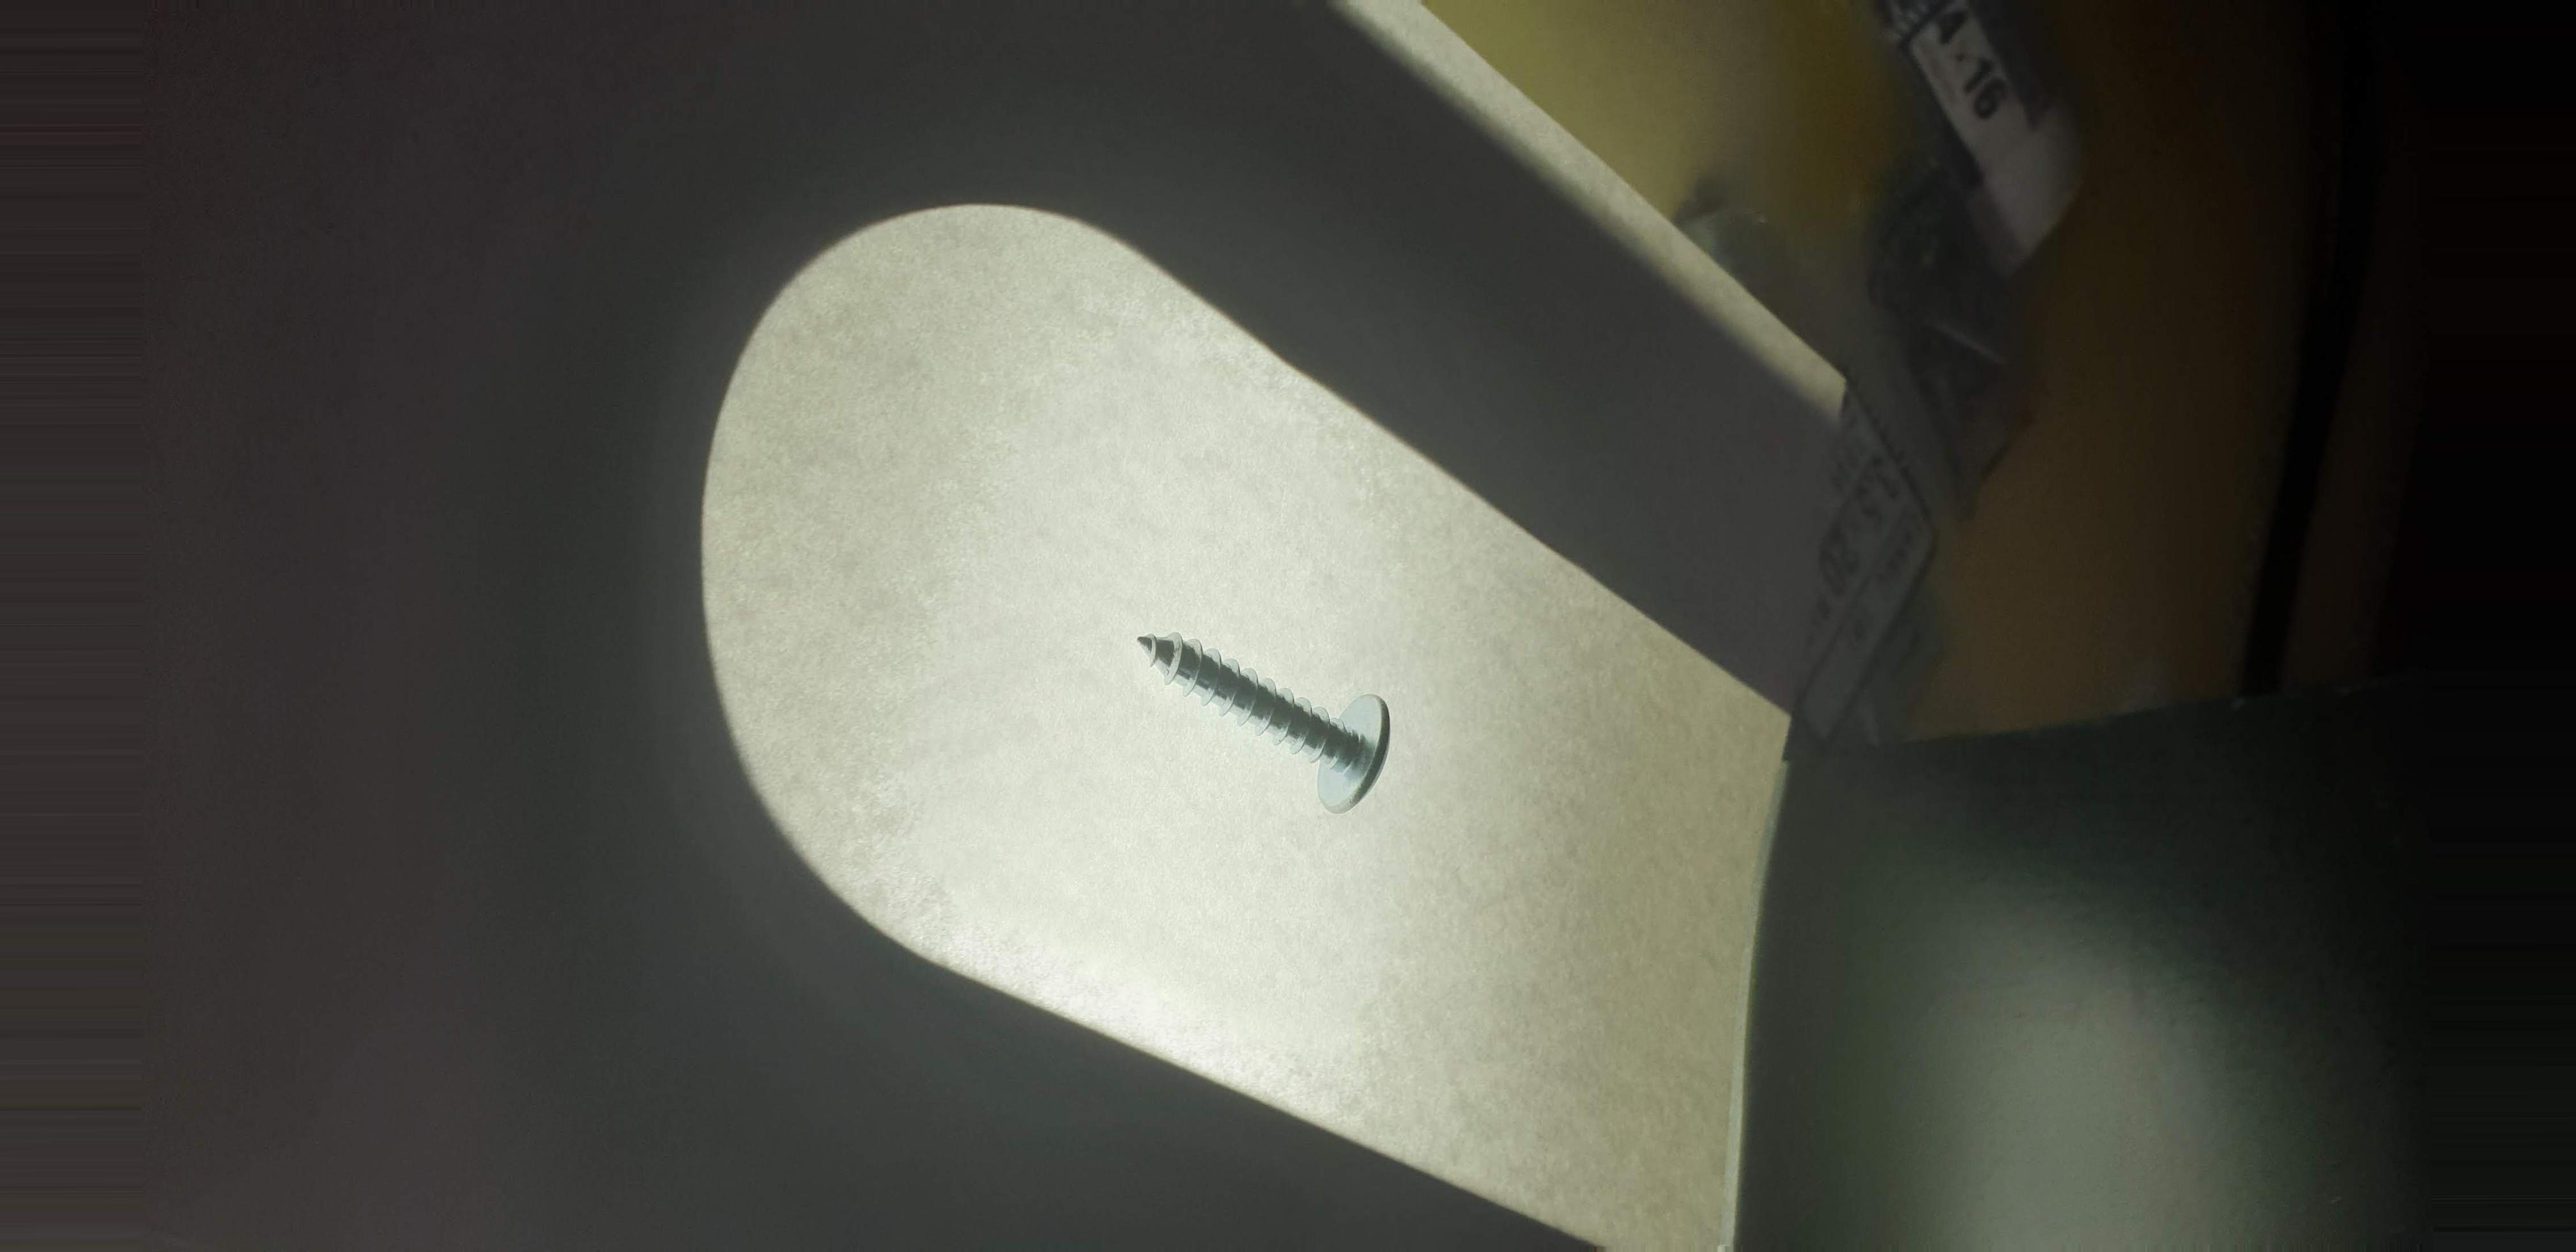S002: (1107, 600, 1457, 835)
